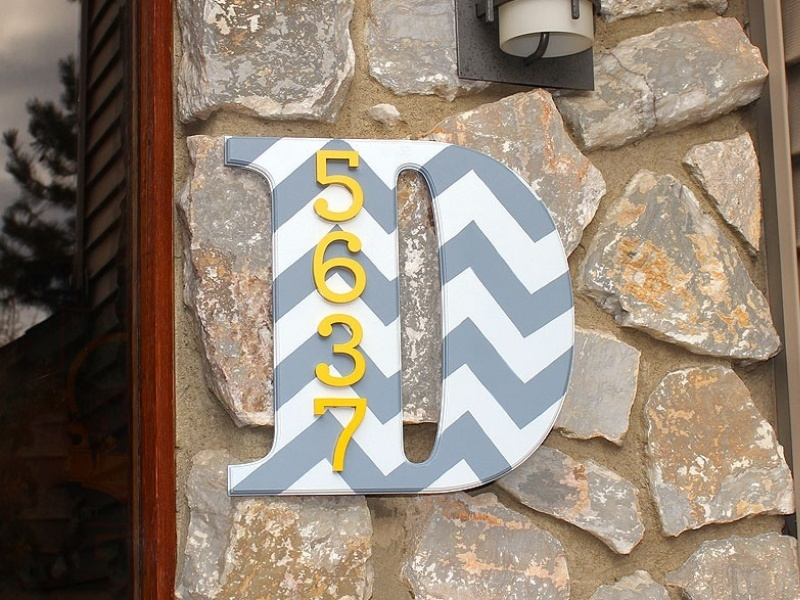text: (321, 149, 336, 474), (337, 149, 352, 474), (353, 149, 368, 474), (309, 149, 320, 474)
